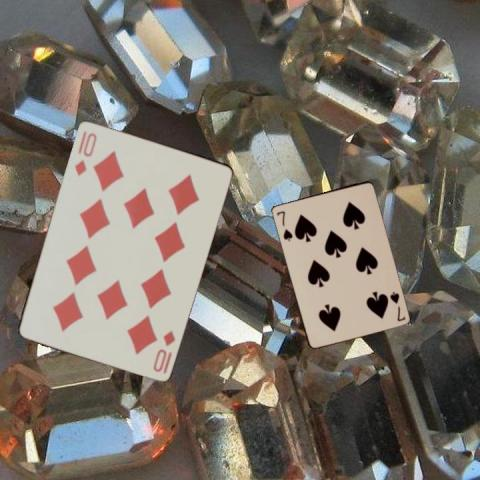10d: (71, 128, 98, 177), (149, 328, 177, 374)
7s: (273, 208, 294, 243), (386, 288, 406, 322)
